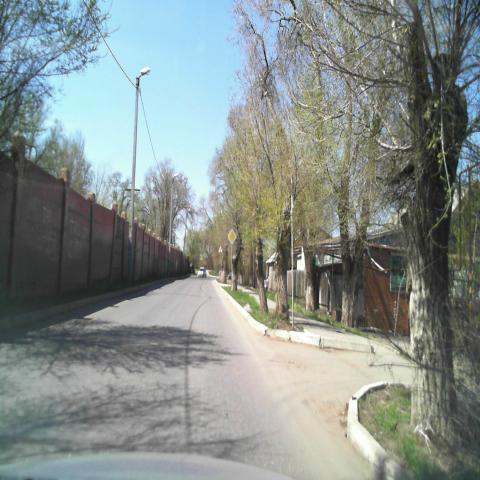1_11: (218, 244, 223, 254)
2_1: (228, 228, 238, 245)
